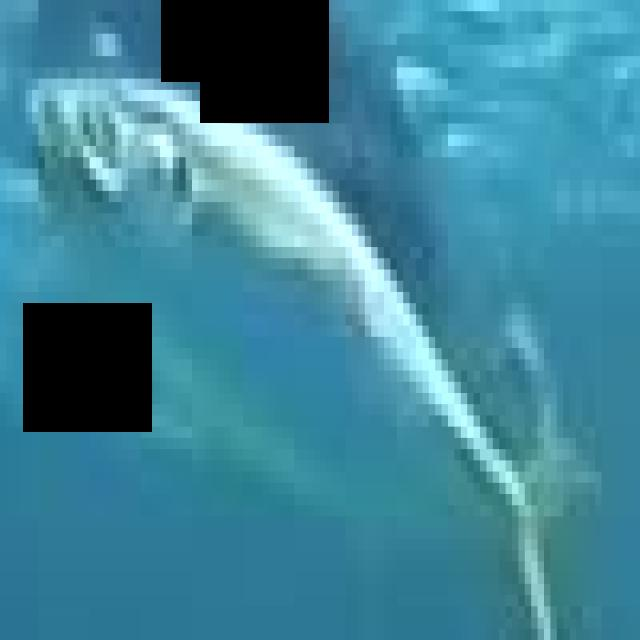fish: (6, 11, 640, 640)
